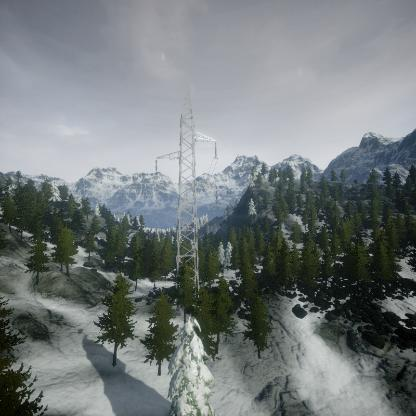tower: (152, 89, 219, 269)
